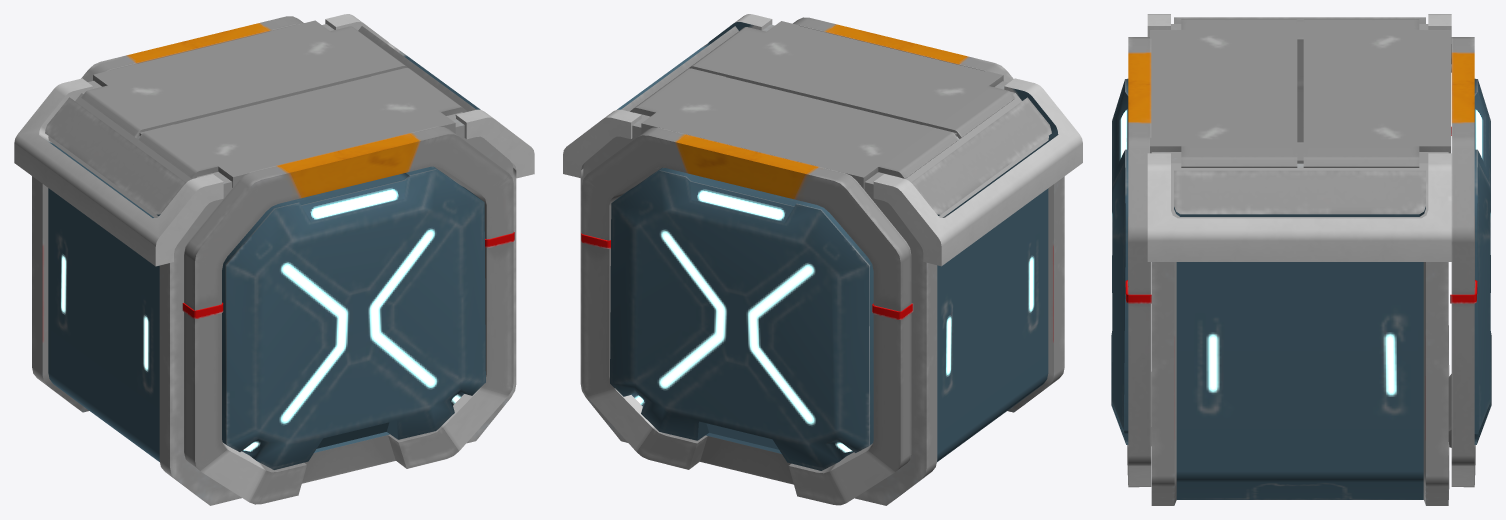
The model's file is Droppod01_Bottom.fbx.
The picture shows the model from 3 angles, left to right: view 1: azimuth 30°, elevation 25°; view 2: azimuth 150°, elevation 25°; view 3: azimuth 270°, elevation 25°; orthographic projection. The views are drawn at different scales.
Parts seen in each view (by area): view 1: Dropped01; view 2: Dropped01; view 3: Dropped01.
Part boxes in pixels (x1,y1,x2,y2): Dropped01: [14, 14, 534, 505]; Dropped01: [563, 14, 1082, 505]; Dropped01: [1111, 14, 1491, 505].
Size of the model in its own units: 0.808 by 0.661 by 0.6539.
1 material, 1 textured.
